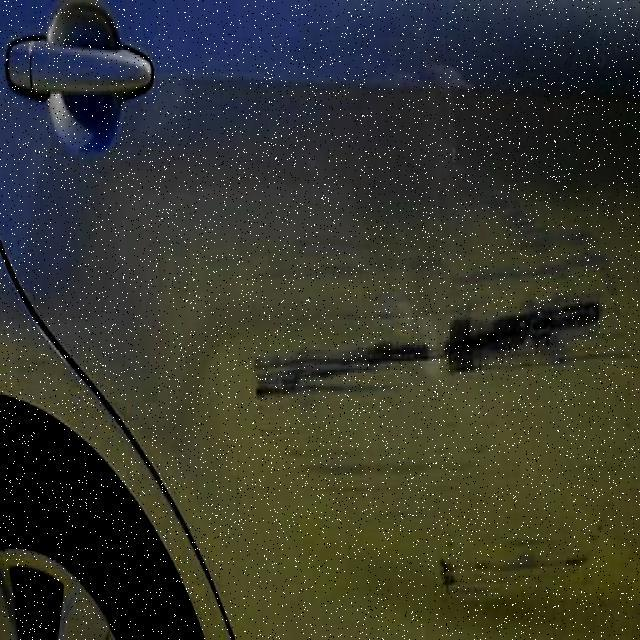car damage: (248, 137, 633, 603)
